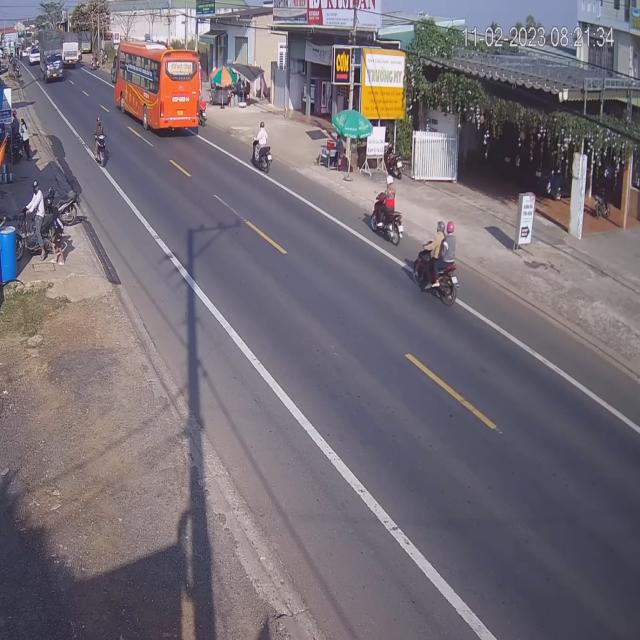bus: (114, 43, 204, 136)
motorbike: (408, 221, 459, 312), (365, 180, 402, 246), (252, 117, 274, 173), (90, 115, 106, 167)
truck: (38, 29, 65, 83)
